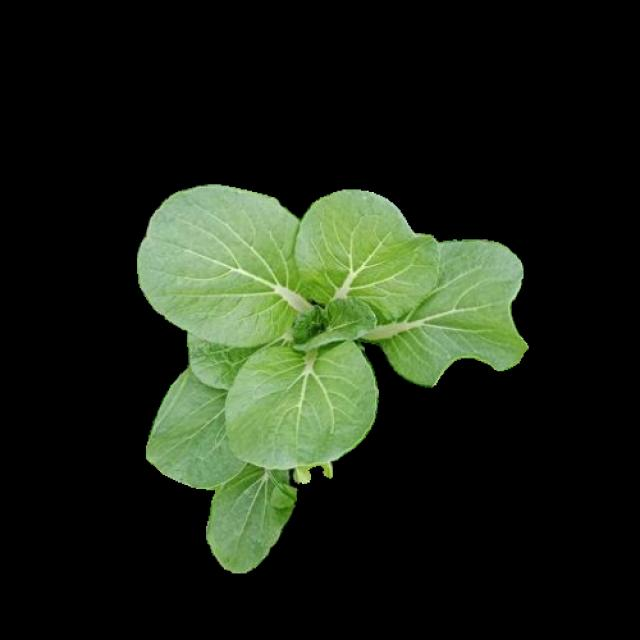healthy: (136, 183, 524, 565)
not-mature: (138, 186, 528, 567)
